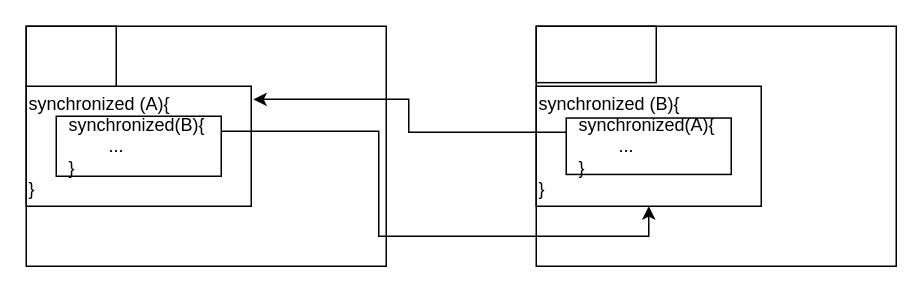
The diagram is 923 pixels wide and 293 high, and some of its shapes have lost their labels. The shapes that lost their labels are listed below. From the top down, each one's centre as x and y in pixels, then its label:
At (x=70, y=55): "线程一".
At (x=595, y=54): "线程二".
